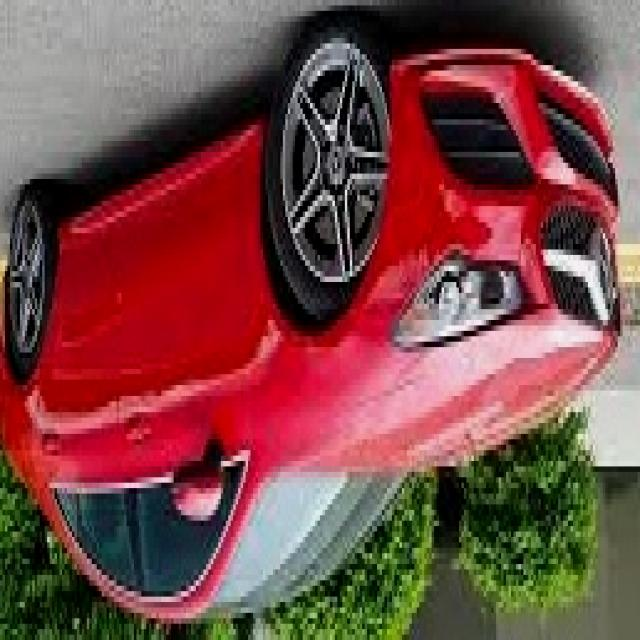red: (0, 33, 622, 632)
